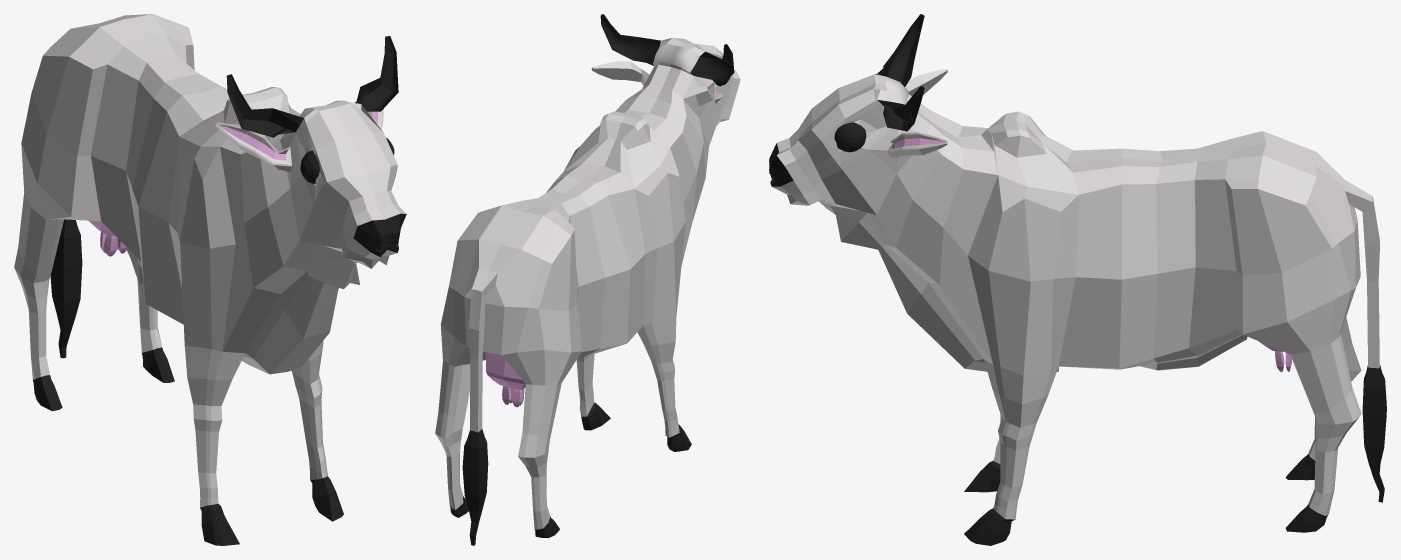
Rendered from Low Poly Cow.fbx.
3 renders of one model, left to right at view 1: azimuth 30°, elevation 25°; view 2: azimuth 150°, elevation 25°; view 3: azimuth 270°, elevation 25°, orthographic. The views are drawn at different scales.
Visible parts, largest first — view 1: Cube; view 2: Cube; view 3: Cube.
Boxes of the visible parts, x1=… form: Cube: x1=14, y1=14, x2=406, y2=545; Cube: x1=435, y1=14, x2=740, y2=545; Cube: x1=769, y1=14, x2=1386, y2=545.
Size of the model in its own units: 94.17 by 269 by 324.
